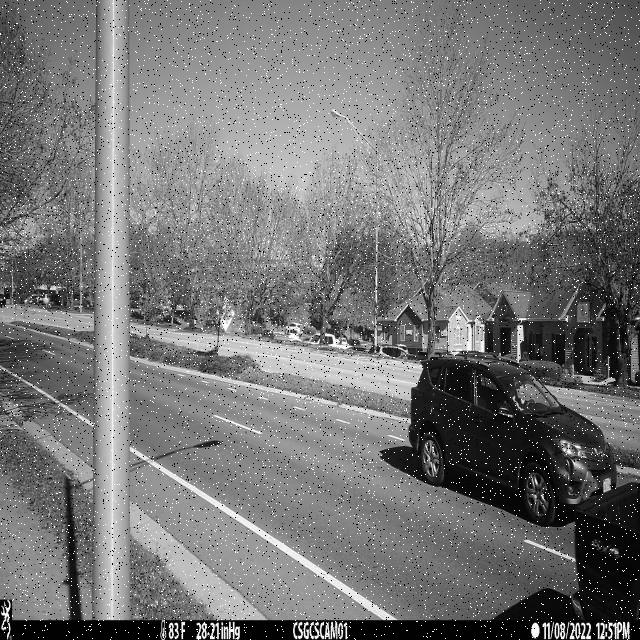SUV: (409, 350, 618, 528)
